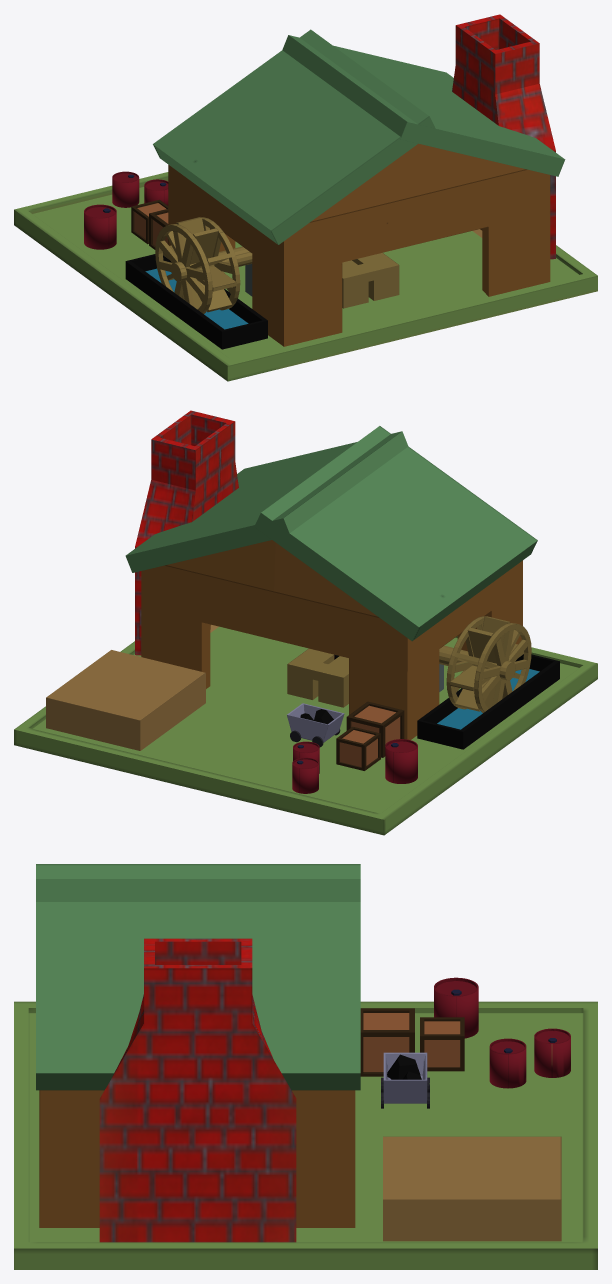
The model's file is Harvester.fbx.
3 views of the same model, one above another, from view 1: azimuth 30°, elevation 25°; view 2: azimuth 150°, elevation 25°; view 3: azimuth 270°, elevation 25° (orthographic). The views are drawn at different scales.
Parts seen in each view (by area): view 1: House.002, Cube.012, Ground, Cube.011, Cube.001, Wheel, Cube, OilBarrels.002, Cube.002, Boxes, SawAxis; view 2: Ground, House.002, Cube.012, Cube.011, Cube.008, Cube.001, Wheel, Cube, Boxes, Cube.002, OilBarrels.002, Cube.004 (+1 smaller); view 3: Ground, Cube.001, Cube.011, Cube.008, House.002, Cube.012, OilBarrels.002, Boxes, Cube.004, Icosphere.001.
Boxes of the visible parts, x1=… form: House.002: x1=168, y1=143, x2=550, y2=346; Cube.012: x1=153, y1=29, x2=435, y2=244; Ground: x1=14, y1=172, x2=597, y2=381; Cube.011: x1=282, y1=35, x2=565, y2=176; Cube.001: x1=452, y1=14, x2=555, y2=259; Wheel: x1=155, y1=217, x2=240, y2=313; Cube: x1=125, y1=254, x2=267, y2=349; OilBarrels.002: x1=84, y1=171, x2=168, y2=249; Cube.002: x1=342, y1=253, x2=399, y2=308; Boxes: x1=131, y1=199, x2=168, y2=249; SawAxis: x1=170, y1=246, x2=252, y2=281; Ground: x1=14, y1=626, x2=597, y2=835; House.002: x1=141, y1=540, x2=522, y2=739; Cube.012: x1=254, y1=426, x2=537, y2=641; Cube.011: x1=125, y1=431, x2=408, y2=572; Cube.008: x1=46, y1=650, x2=205, y2=750; Cube.001: x1=135, y1=410, x2=238, y2=655; Wheel: x1=446, y1=616, x2=531, y2=712; Cube: x1=417, y1=654, x2=559, y2=749; Boxes: x1=336, y1=701, x2=404, y2=770; Cube.002: x1=287, y1=648, x2=348, y2=707; OilBarrels.002: x1=292, y1=739, x2=417, y2=793; Cube.004: x1=287, y1=703, x2=344, y2=747; Ground: x1=14, y1=1001, x2=597, y2=1269; Cube.001: x1=99, y1=938, x2=296, y2=1242; Cube.011: x1=36, y1=864, x2=360, y2=1090; Cube.008: x1=383, y1=1136, x2=561, y2=1241; House.002: x1=39, y1=1090, x2=355, y2=1227; Cube.012: x1=36, y1=879, x2=360, y2=901; OilBarrels.002: x1=434, y1=977, x2=570, y2=1088; Boxes: x1=360, y1=1008, x2=464, y2=1076; Cube.004: x1=381, y1=1052, x2=429, y2=1108; Icosphere.001: x1=387, y1=1054, x2=420, y2=1079.
Bounding box in the file's own units: 1000 × 557 × 1000.
